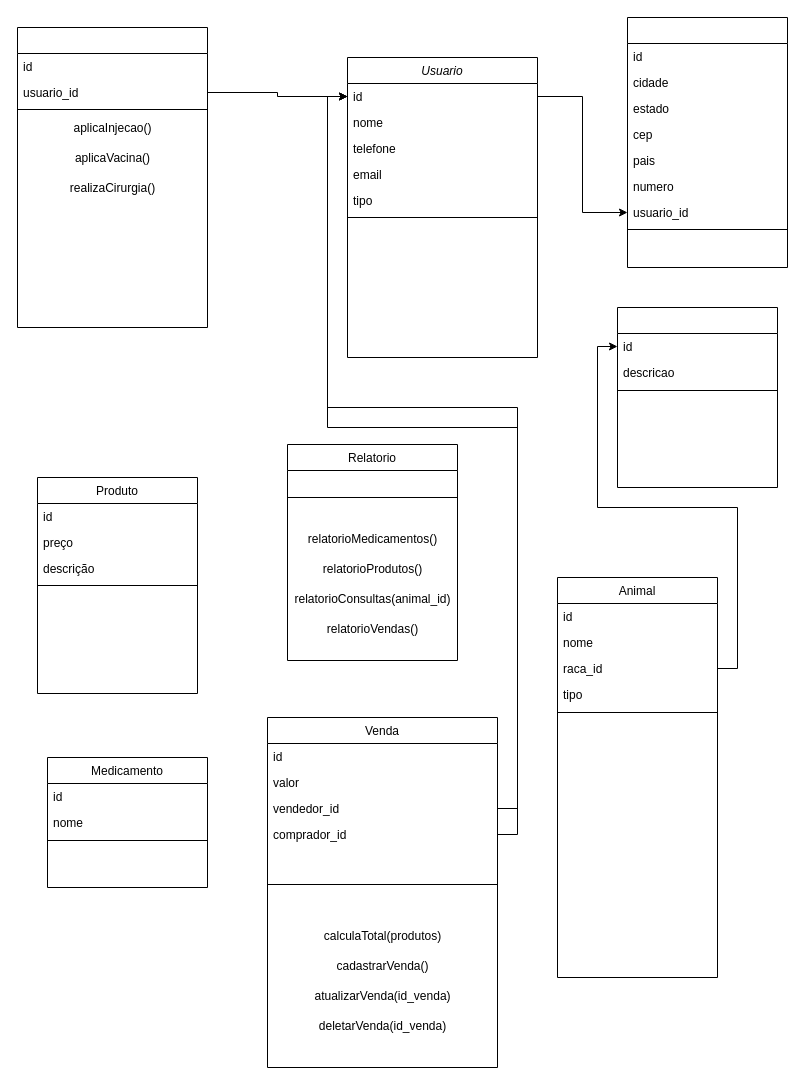
The diagram is 805 pixels wide and 1085 high, and some of its shapes have lost their labels. Each missing label, with the box of its shape:
Endereço: (626, 16, 788, 268)
Raça: (616, 306, 778, 488)
Veterinario: (16, 26, 208, 328)
